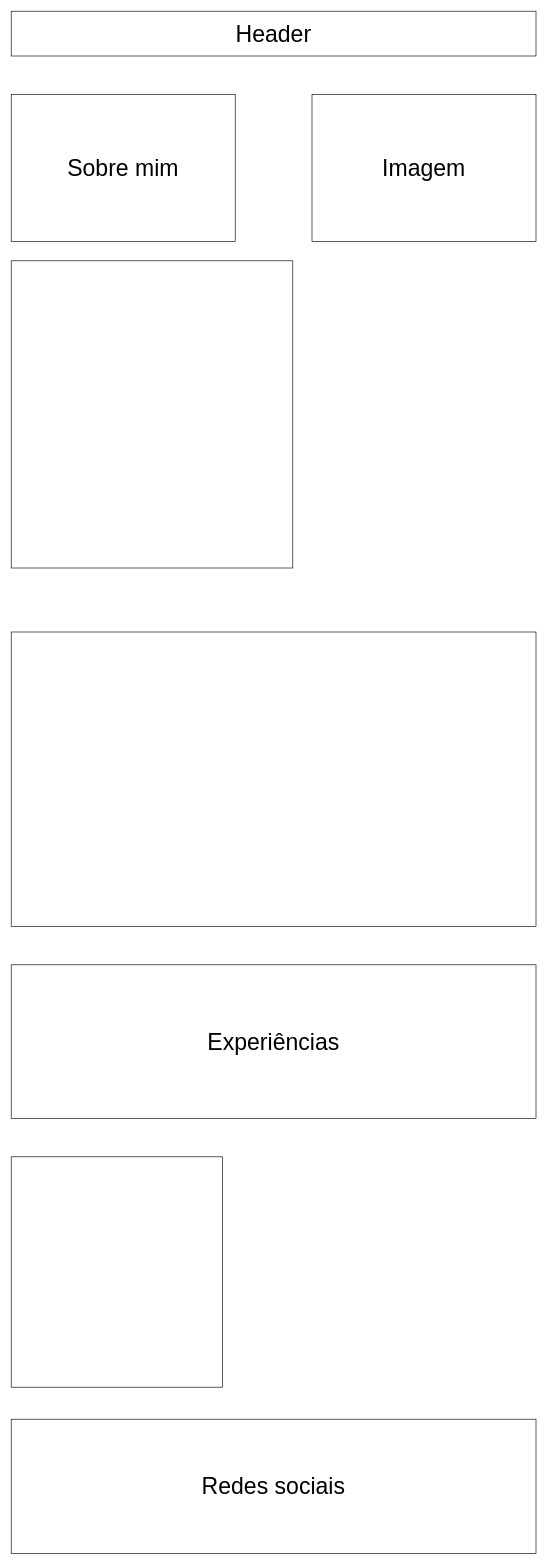
Some shapes in this 547 by 1565 pixel diagram are drawn without their labels. Each missing label, with the box of its shape:
Contato: (11, 1156, 222, 1387)
Especialidades do autor: (11, 631, 536, 926)
Informações do autor: (11, 260, 293, 568)
